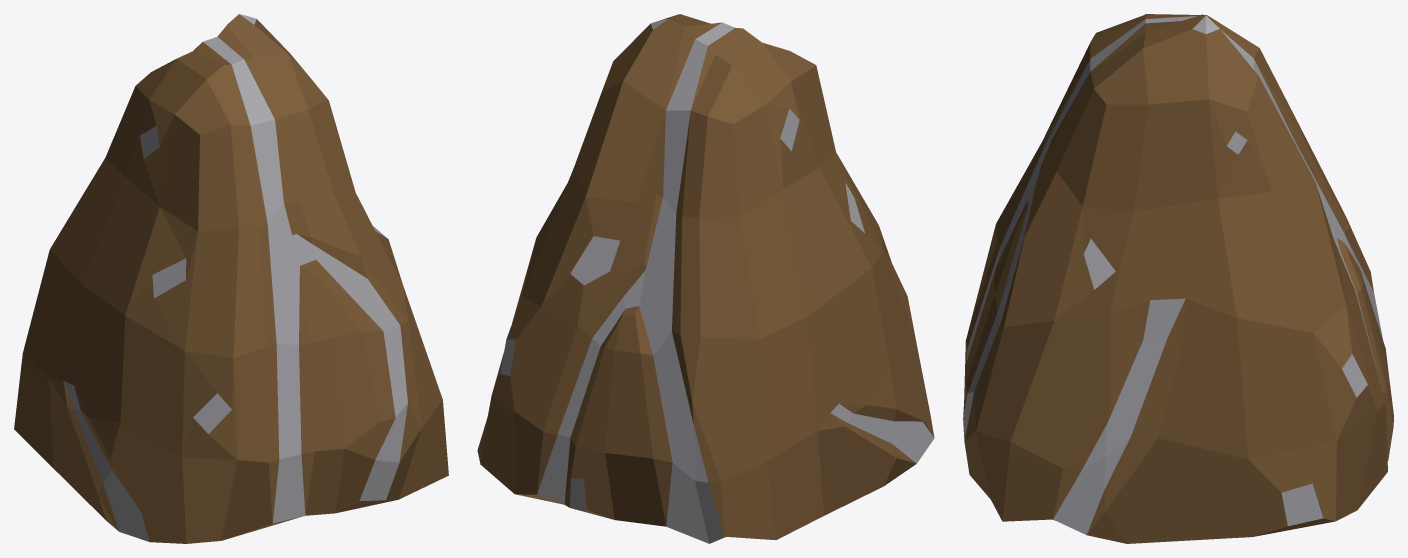
Rendered from IronRock.glb.
The picture shows the model from 3 angles, left to right: view 1: azimuth 30°, elevation 25°; view 2: azimuth 150°, elevation 25°; view 3: azimuth 270°, elevation 25°; orthographic projection. The views are drawn at different scales.
Visible parts, largest first — view 1: IronRock; view 2: IronRock; view 3: IronRock.
Boxes of the visible parts, box(x1,y1,x2,y2) form: IronRock: box(14, 14, 448, 543); IronRock: box(477, 14, 934, 543); IronRock: box(963, 14, 1393, 543).
Size of the model in its own units: 0.6998 by 0.9335 by 0.7637.
